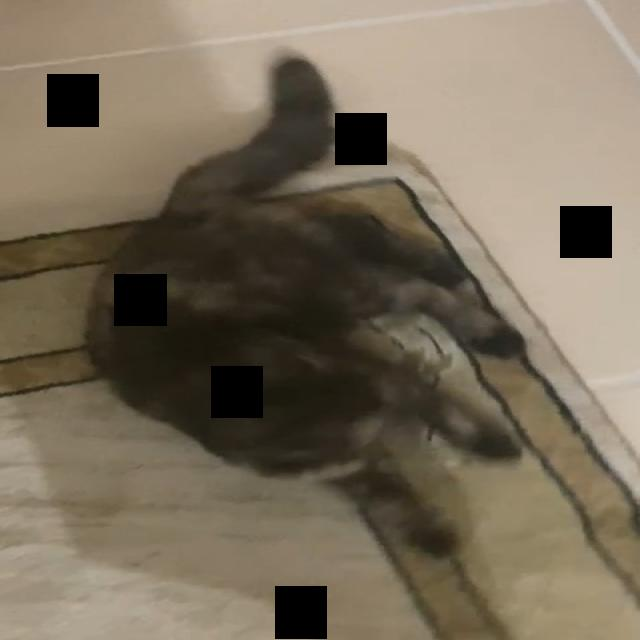authorized: (82, 48, 638, 634)
